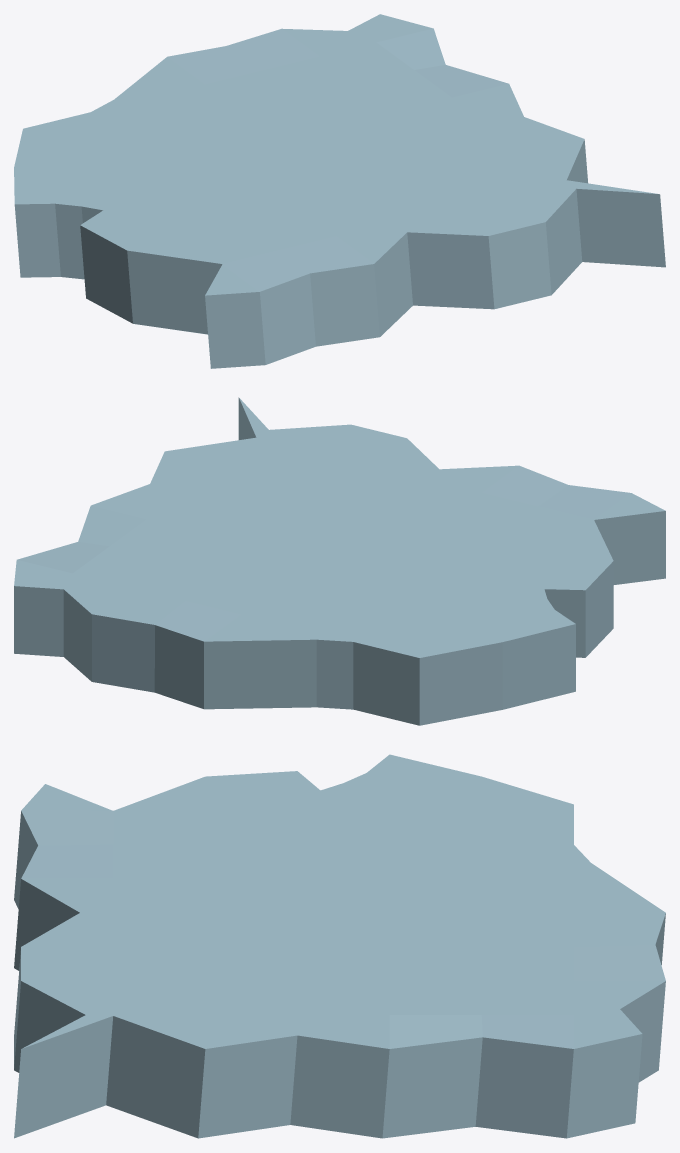
The model's file is ice_floe1(1).fbx.
3 views of the same model, one above another, from view 1: azimuth 30°, elevation 25°; view 2: azimuth 150°, elevation 25°; view 3: azimuth 270°, elevation 25° (orthographic). The views are drawn at different scales.
Visible parts, largest first — view 1: Plane; view 2: Plane; view 3: Plane.
Part boxes in pixels (x1,y1,x2,y2): Plane: (14, 14, 665, 368); Plane: (14, 397, 665, 725); Plane: (14, 754, 665, 1138).
Bounding box in the file's own units: 2.17 × 0.314 × 2.02.
